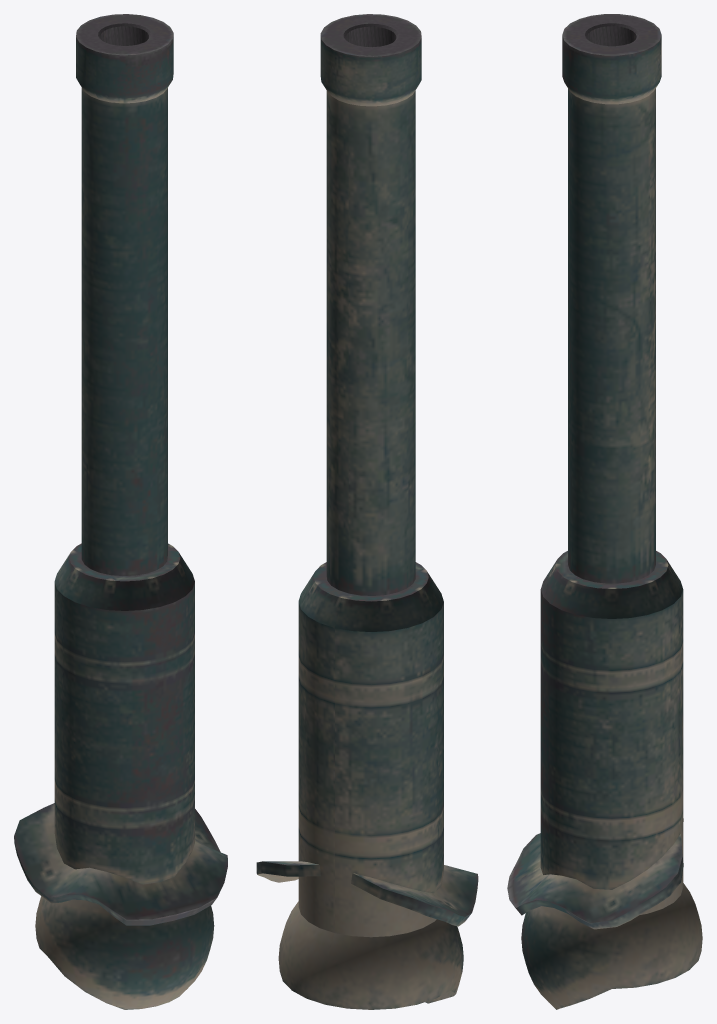
Rendered from Gun_03.glb.
3 views of the same model, side by side, from view 1: azimuth 30°, elevation 25°; view 2: azimuth 150°, elevation 25°; view 3: azimuth 270°, elevation 25° (orthographic). The views are drawn at different scales.
Parts seen in each view (by area): view 1: set_0_group_0; view 2: set_0_group_0; view 3: set_0_group_0.
Boxes of the visible parts, left/top/right/bottom form: set_0_group_0: left=14, top=14, right=227, bottom=1009; set_0_group_0: left=256, top=14, right=478, bottom=1009; set_0_group_0: left=507, top=14, right=702, bottom=1009.
Size of the model in its own units: 0.4532 by 2.25 by 0.4142.
Materials: 1 (1 with a texture image).
